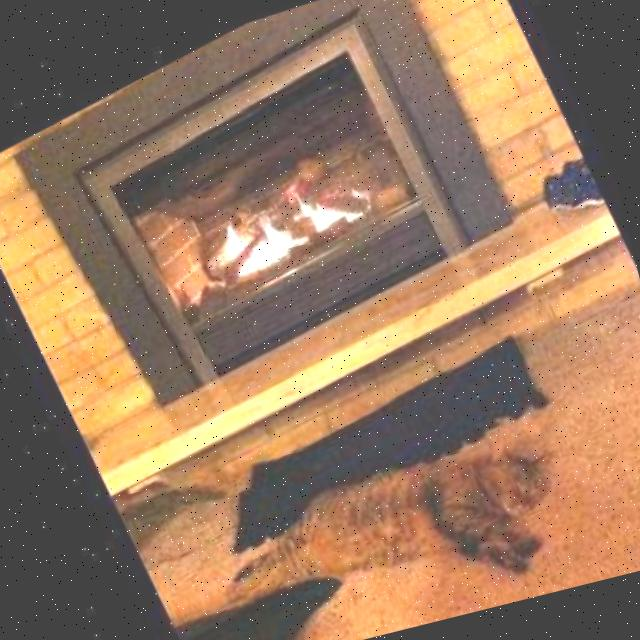fire: (134, 77, 406, 313)
